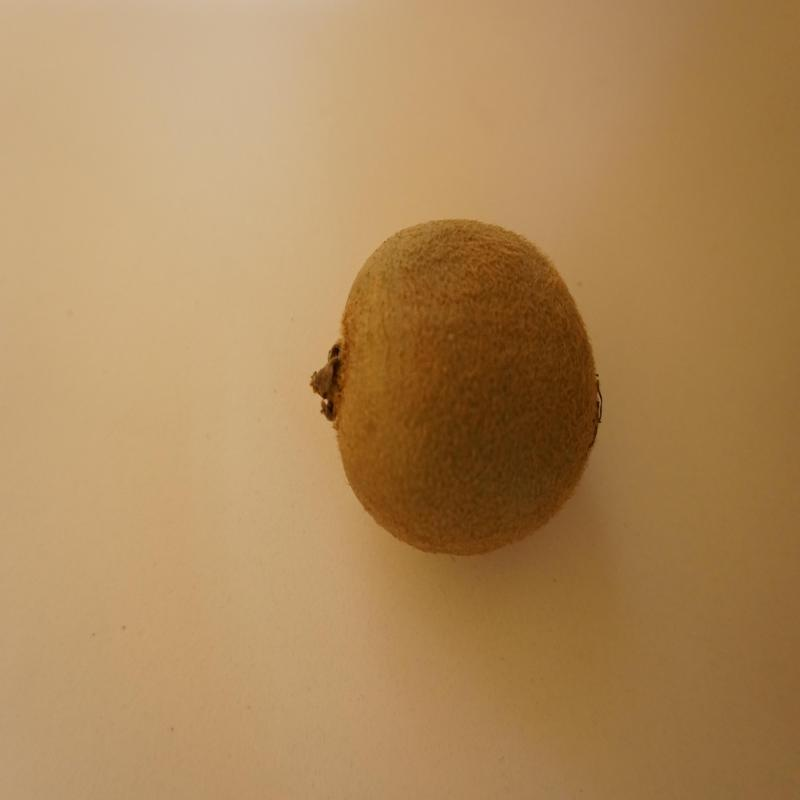Kiwi: (310, 219, 605, 559)
